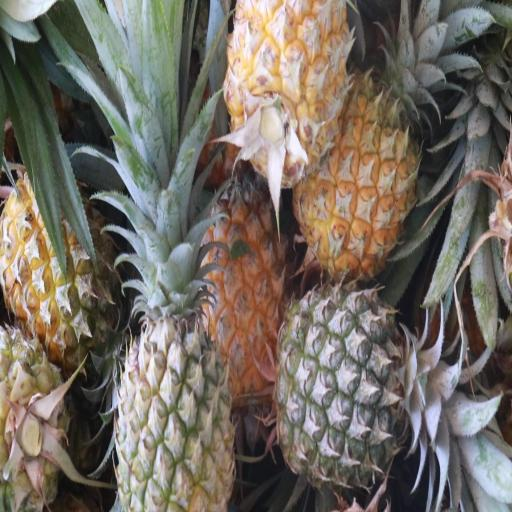------------------------------: (0, 166, 114, 353)
Pineapple - v8 v1: (294, 66, 416, 263), (223, 0, 350, 168), (198, 160, 287, 387)
